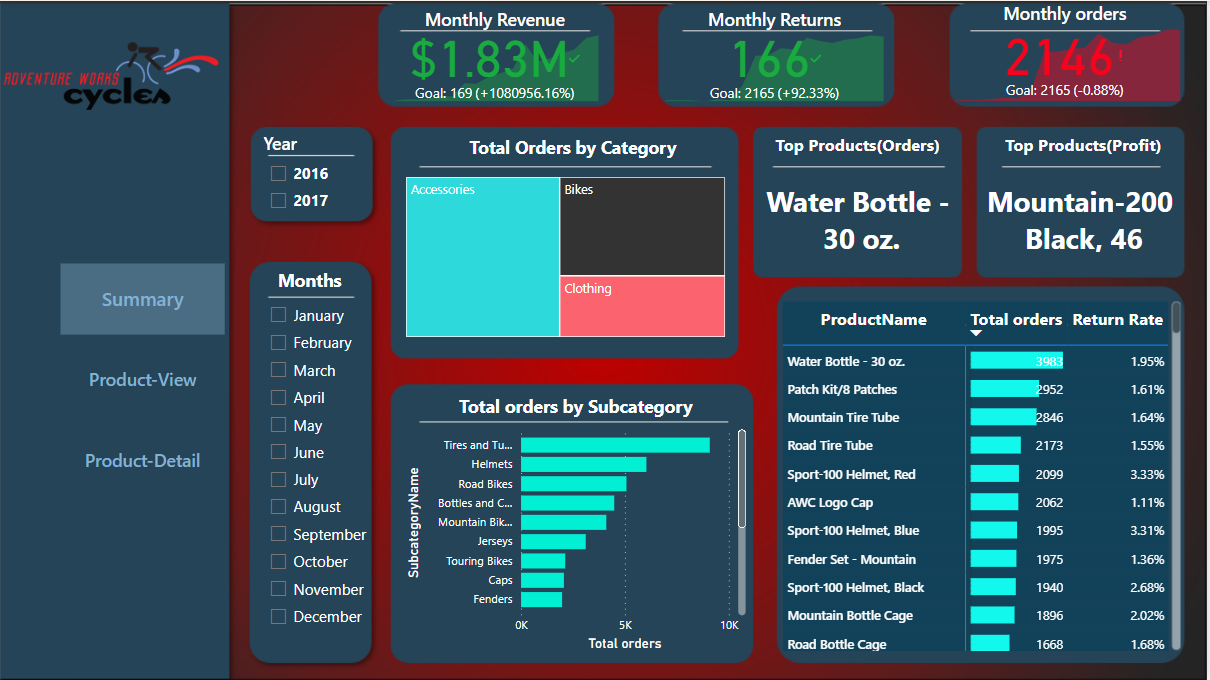

The page's visual inventory and layout, read from the dashboard file:
{"tool":"powerbi","page":{"name":"Summary","canvas":[1280,720],"ordinal":0},"visuals":[{"type":"image","box":[0,0,240,158.9],"z":0},{"type":"kpi","title":"Monthly Revenue","fields":{"Indicator":["AW_Sales.Total Revenue"],"TrendLine":["AW_calender_lookup.Start of Month"],"Goal":["AW_Returns.prev month returns"]},"box":[410.1,6.4,230.5,104.9],"z":1},{"type":"kpi","title":"Monthly Returns","fields":{"Goal":["AW_Sales.prev month order"],"TrendLine":["AW_calender_lookup.Start of Month"],"Indicator":["AW_Returns.Total returns"]},"box":[700.9,6.4,241.6,104.9],"z":2},{"type":"kpi","title":"Monthly orders","fields":{"Goal":["AW_Sales.prev month order"],"TrendLine":["AW_calender_lookup.Start of Month"],"Indicator":["AW_Sales.Total orders"]},"box":[1001.3,0,255.9,111.3],"z":3},{"type":"slicer","title":"Year","fields":{"Values":["AW_calender_lookup.Year"]},"box":[275,138.3,135.1,97],"z":4},{"type":"slicer","title":"Months","fields":{"Values":["AW_calender_lookup.Month Name"]},"box":[275,313.1,131.9,379.9],"z":5},{"type":"textbox","box":[262.3,278.1,133.5,35],"z":6},{"type":"treemap","title":"Total orders by category","fields":{"Group":["AW_Product_Category_lookup.CategoryName","AW_Product_Subcategory_lookup.SubcategoryName"],"Values":["AW_Sales.Total orders"]},"box":[426,181.2,348.1,179.6],"z":7},{"type":"card","title":"Top Products(Orders)","fields":{"Values":["Min(AW_product_lookup.ProductName)"]},"box":[796.3,139.9,227.3,152.6],"z":8},{"type":"card","title":"Top Products(Profit)","fields":{"Values":["Min(AW_product_lookup.ProductName)"]},"box":[1041.1,139.9,216.2,152.6],"z":9},{"type":"pivotTable","fields":{"Rows":["AW_product_lookup.ProductName"],"Values":["AW_Sales.Total orders","AW_Returns.Return Rate"]},"box":[824.9,313.1,432.3,379.9],"z":10},{"type":"barChart","title":"Total orders by Subcategory","fields":{"Y":["AW_Sales.Total orders"],"Category":["AW_Product_Subcategory_lookup.SubcategoryName"]},"box":[426,416.4,370.3,276.6],"z":11},{"type":"textbox","box":[441.9,136.7,332.2,44.5],"z":12},{"type":"pageNavigator","box":[65.2,278.1,174.8,247.9],"z":13}]}

Visuals, with their boxes in screenshot pixels (x1, y1, x2, y2), scaled from the page's 1280x720 canvas onto the 1210x680 screenshot:
image: detection(0, 0, 227, 150)
"Monthly Revenue" kpi: detection(388, 6, 606, 105)
"Monthly Returns" kpi: detection(663, 6, 891, 105)
"Monthly orders" kpi: detection(947, 0, 1188, 105)
"Year" slicer: detection(260, 131, 388, 222)
"Months" slicer: detection(260, 296, 385, 654)
textbox: detection(248, 263, 374, 296)
"Total orders by category" treemap: detection(403, 171, 732, 341)
"Top Products(Orders)" card: detection(753, 132, 968, 276)
"Top Products(Profit)" card: detection(984, 132, 1189, 276)
pivotTable - AW_product_lookup.ProductName x AW_Sales.Total orders: detection(780, 296, 1188, 654)
"Total orders by Subcategory" barChart: detection(403, 393, 753, 654)
textbox: detection(418, 129, 732, 171)
pageNavigator: detection(62, 263, 227, 497)
